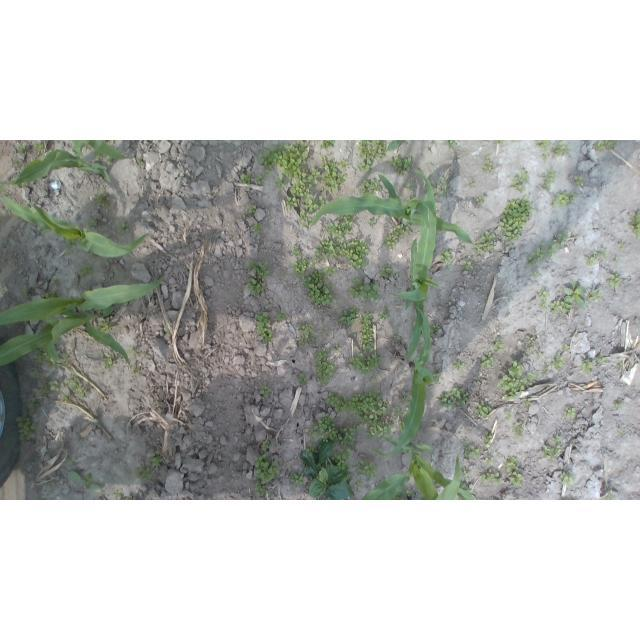Maize: (310, 163, 482, 257), (373, 304, 438, 459), (0, 194, 150, 259), (394, 169, 443, 364), (0, 307, 132, 370), (1, 278, 168, 327), (360, 436, 479, 500), (0, 140, 124, 185), (406, 453, 462, 500), (387, 140, 406, 152)
Weeds: (302, 438, 357, 500), (497, 359, 538, 401), (260, 141, 309, 176), (500, 196, 533, 241), (351, 388, 388, 425), (302, 271, 336, 308), (320, 156, 348, 196), (337, 238, 368, 271), (308, 415, 342, 441), (253, 453, 282, 483), (346, 278, 382, 301), (313, 348, 335, 385), (67, 470, 102, 492), (350, 353, 383, 376), (384, 221, 411, 249), (327, 215, 354, 242), (437, 387, 470, 409), (286, 168, 310, 197), (360, 312, 376, 353), (16, 412, 38, 441), (313, 239, 340, 262), (255, 312, 274, 344), (505, 455, 524, 487), (563, 284, 587, 309), (357, 140, 387, 160), (327, 391, 352, 413), (65, 375, 88, 398), (296, 324, 316, 349), (510, 168, 530, 193), (367, 422, 394, 440), (473, 231, 495, 253), (32, 348, 56, 368), (388, 156, 413, 174), (247, 259, 269, 279), (303, 194, 325, 214), (480, 469, 503, 488), (356, 459, 379, 478), (37, 379, 61, 397), (359, 178, 383, 196), (338, 308, 360, 327), (340, 427, 360, 447), (548, 300, 572, 315), (527, 245, 545, 265), (541, 169, 556, 191), (537, 140, 552, 162), (94, 192, 112, 210), (293, 259, 310, 278), (464, 441, 481, 460), (552, 192, 572, 208), (629, 211, 640, 239), (247, 280, 265, 297), (474, 403, 492, 420), (553, 230, 569, 248), (543, 445, 562, 460), (254, 481, 270, 498), (97, 317, 113, 333), (149, 452, 164, 469), (306, 167, 321, 184), (104, 352, 117, 371), (135, 467, 151, 482), (584, 252, 601, 266), (358, 159, 375, 173), (596, 141, 617, 152), (553, 351, 565, 370), (607, 275, 622, 290), (379, 264, 394, 279), (297, 211, 311, 227), (481, 156, 495, 172), (479, 353, 493, 369), (553, 141, 569, 155), (539, 289, 549, 310), (561, 472, 575, 487), (441, 248, 454, 264), (399, 391, 411, 408), (544, 244, 558, 258), (459, 482, 474, 495), (429, 323, 440, 340), (251, 223, 265, 236), (589, 290, 604, 302), (322, 264, 337, 276), (60, 354, 72, 369), (290, 472, 303, 485), (79, 264, 93, 276), (451, 360, 465, 372), (378, 308, 390, 321), (260, 384, 272, 397), (581, 360, 593, 373), (564, 406, 577, 418), (297, 372, 308, 386), (29, 398, 40, 412), (287, 195, 298, 209), (462, 259, 474, 271), (240, 172, 252, 184), (319, 140, 335, 149), (492, 338, 504, 350), (354, 480, 365, 493), (367, 214, 378, 226), (276, 310, 288, 321), (112, 487, 123, 499), (274, 177, 286, 188), (393, 490, 406, 500), (34, 143, 45, 154), (244, 205, 256, 215), (514, 424, 524, 436), (43, 292, 60, 299), (15, 144, 29, 152), (484, 431, 492, 445), (291, 245, 302, 255), (66, 238, 77, 248), (119, 221, 130, 231), (574, 176, 584, 187), (255, 175, 265, 185), (432, 373, 441, 384), (596, 355, 608, 363), (88, 218, 97, 228), (479, 195, 487, 206), (394, 407, 405, 415), (445, 141, 457, 148), (600, 249, 609, 258), (32, 370, 41, 379), (606, 490, 614, 500), (263, 441, 271, 451), (60, 394, 68, 403), (40, 226, 49, 234), (438, 177, 447, 185), (398, 420, 404, 432), (107, 155, 114, 165), (137, 154, 143, 165), (89, 252, 97, 260), (527, 336, 535, 344), (486, 458, 494, 466), (23, 288, 30, 297), (438, 189, 448, 195), (522, 399, 532, 405), (96, 152, 103, 160), (555, 435, 562, 443), (333, 345, 340, 352), (13, 161, 20, 168), (616, 402, 623, 409), (461, 471, 468, 478), (408, 184, 416, 190), (494, 140, 506, 144), (537, 353, 543, 360), (405, 491, 413, 496), (619, 243, 625, 249), (506, 413, 512, 419), (572, 191, 578, 197), (311, 261, 316, 268), (68, 460, 75, 465), (563, 345, 570, 350), (532, 272, 539, 277), (52, 279, 58, 284), (544, 368, 550, 373), (574, 332, 579, 338), (619, 364, 624, 369), (166, 327, 170, 333), (13, 176, 19, 180), (0, 187, 4, 192)
